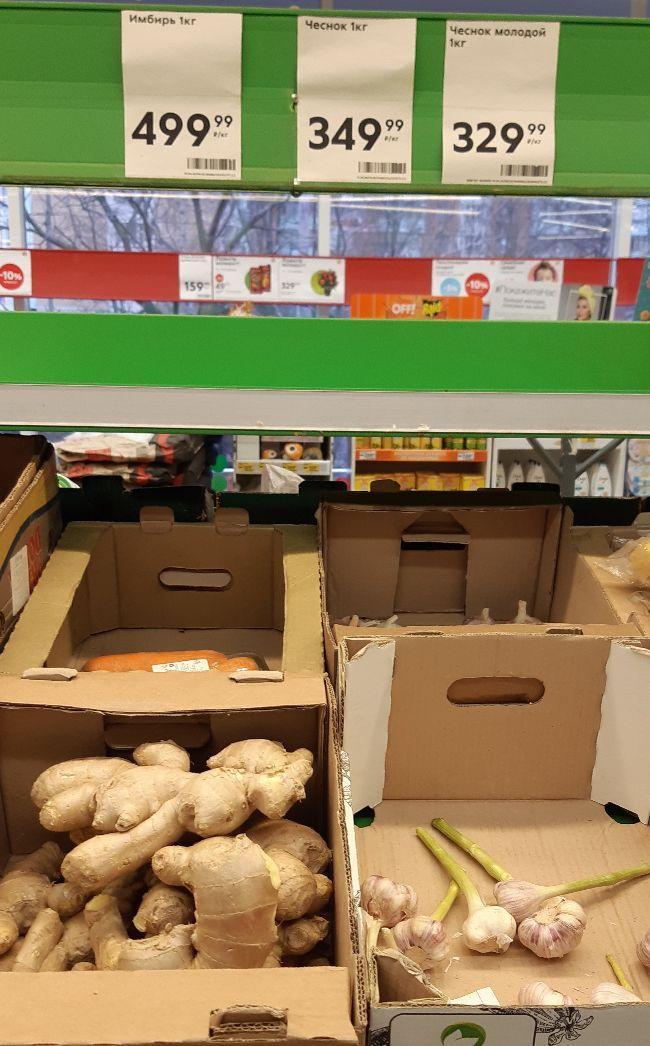garlic: (357, 760, 650, 998)
ginger: (8, 703, 326, 988)
